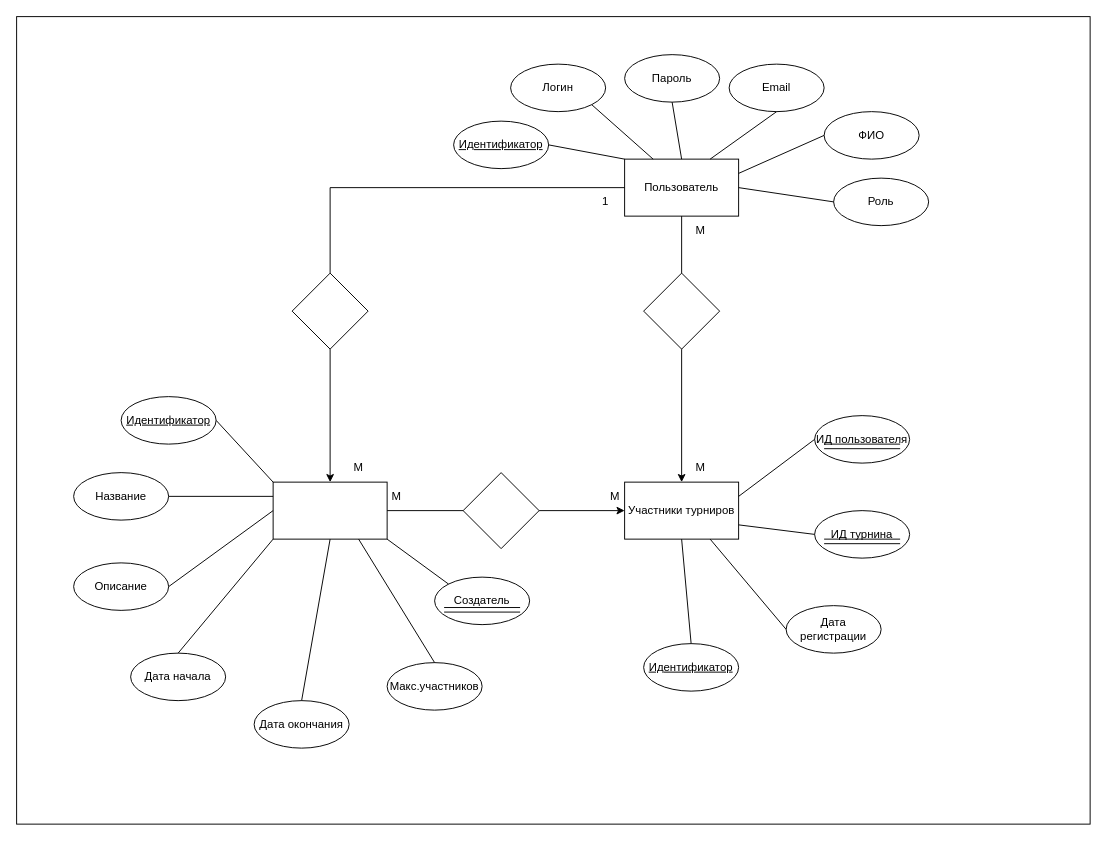
Image size: 1107x841. Some labels were removed from this diagram. The centre of each missing label's shape, as x and y in pixels:
"Включают" goes at [500,510].
"Создает" goes at [329,310].
"Становится" goes at [681,310].
"Турниры" goes at [329,510].
